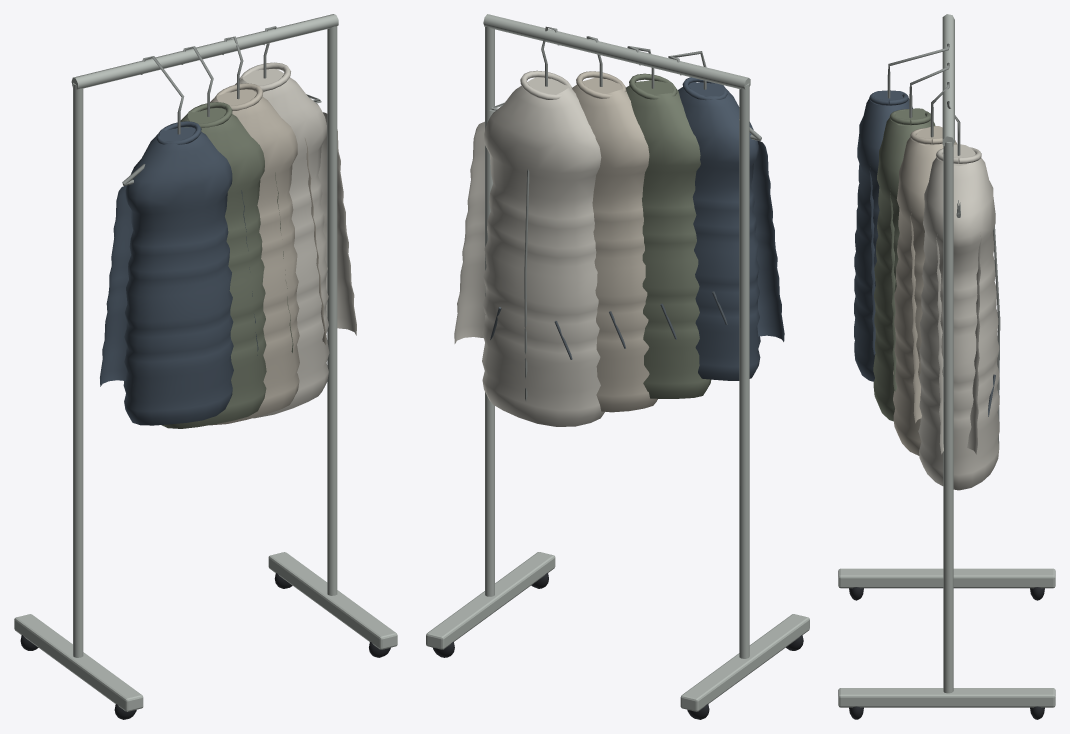
The model's file is coats.glb.
3 views of the same model, side by side, from view 1: azimuth 30°, elevation 25°; view 2: azimuth 150°, elevation 25°; view 3: azimuth 270°, elevation 25° (orthographic). The views are drawn at different scales.
Visible parts, largest first — view 1: West_coats; view 2: West_coats; view 3: West_coats.
Part boxes in pixels (x1=…): West_coats: x1=14, y1=14, x2=397, y2=719; West_coats: x1=426, y1=14, x2=809, y2=719; West_coats: x1=838, y1=14, x2=1055, y2=719.
Bounding box in the file's own units: 0.8974 × 1.79 × 0.6.
